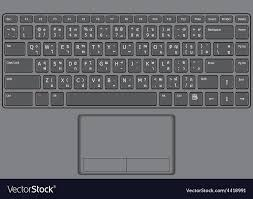keyboard: (1, 13, 253, 110)
